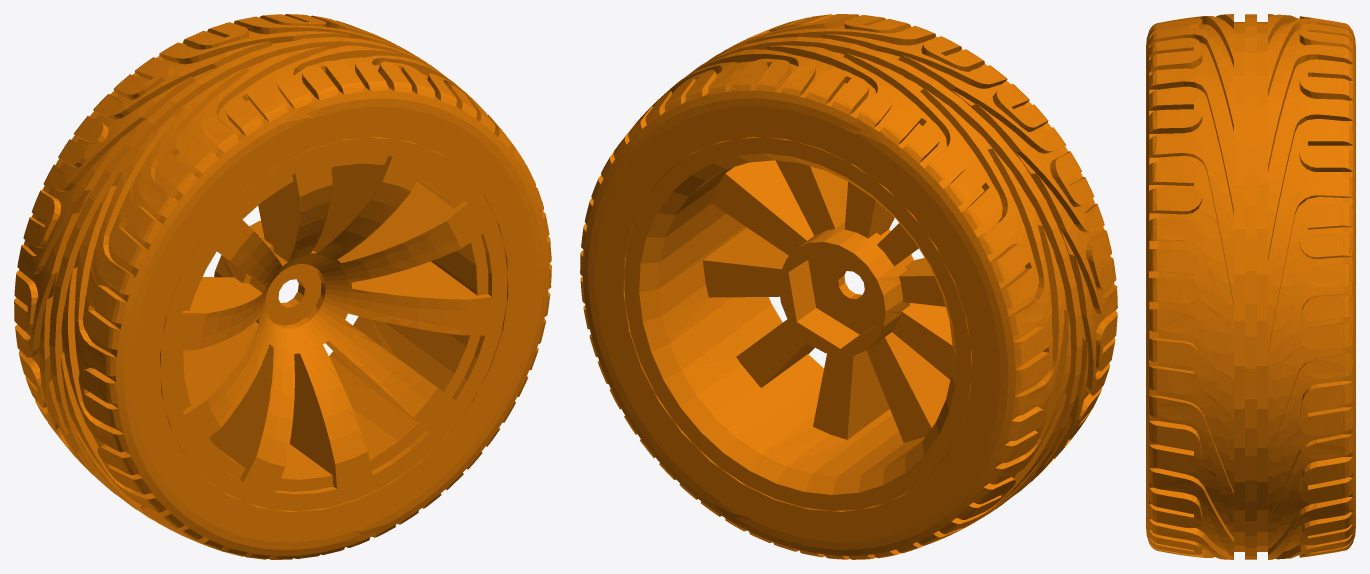
Rendered from back_right_link.dae.
3 views of the same model, side by side, from view 1: azimuth 30°, elevation 25°; view 2: azimuth 150°, elevation 25°; view 3: azimuth 270°, elevation 25° (orthographic). The views are drawn at different scales.
Visible parts, largest first — view 1: back_right_link; view 2: back_right_link; view 3: back_right_link.
Boxes of the visible parts, box(x1,y1,x2,y2) form: back_right_link: box(14, 14, 551, 559); back_right_link: box(580, 14, 1117, 559); back_right_link: box(1146, 14, 1355, 559).
Size of the model in its own units: 0.069 by 0.0265 by 0.069.
